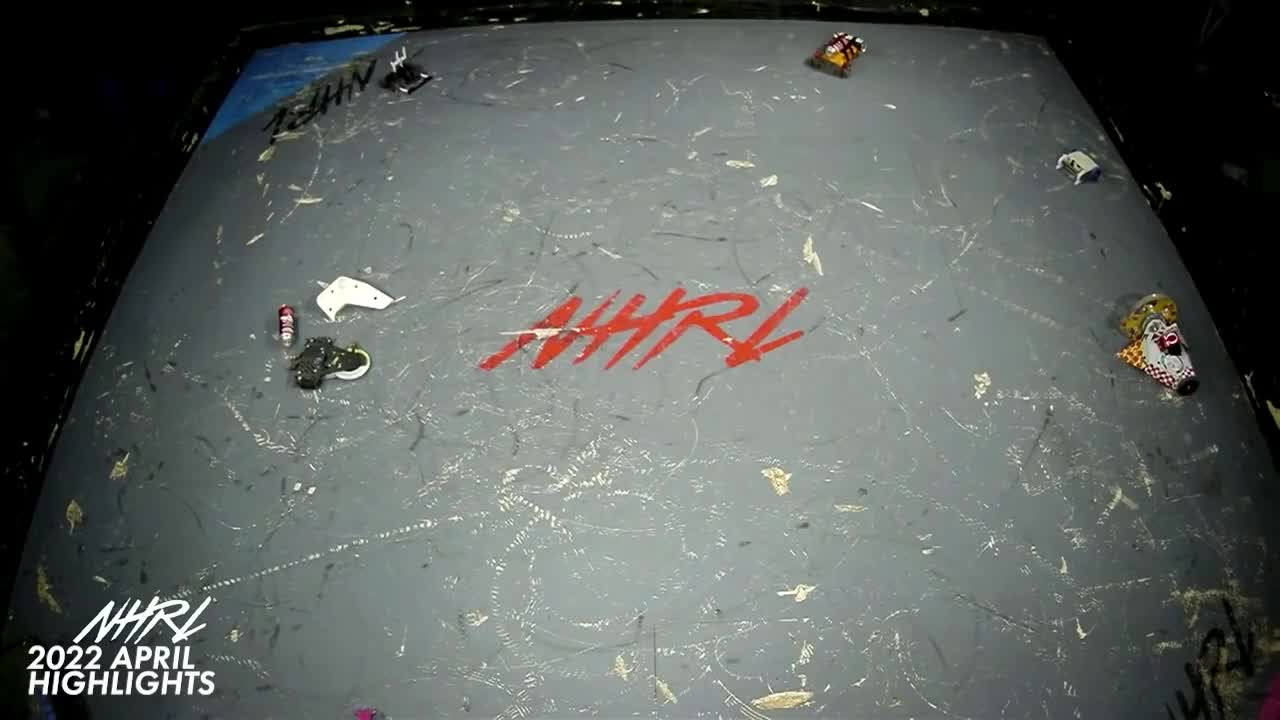combatbot: (1110, 289, 1199, 399), (285, 335, 372, 392), (805, 32, 868, 78), (381, 47, 435, 96), (1054, 149, 1104, 186)
debris: (315, 273, 402, 321), (272, 303, 300, 349)
